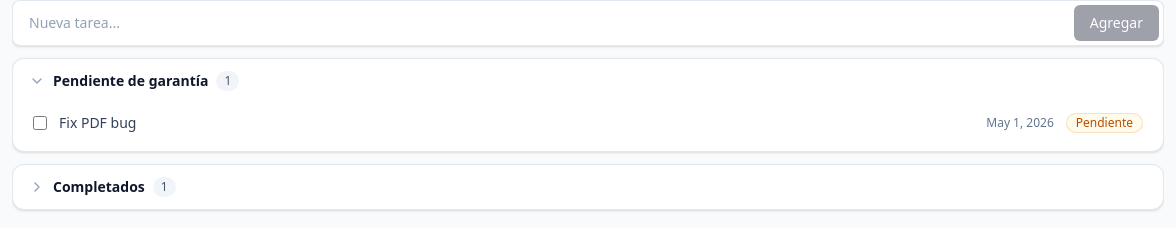
Test: TaskAccordion › enables submit button when input has value
The image size is (1176, 228).
Expected: the button "Agregar" is disabled, [1074, 5, 1159, 41]
Step 1. Type "New task" into the field with placeholder "Nueva tarea..." → {"x": 543, "y": 23}, box [17, 5, 1070, 41]
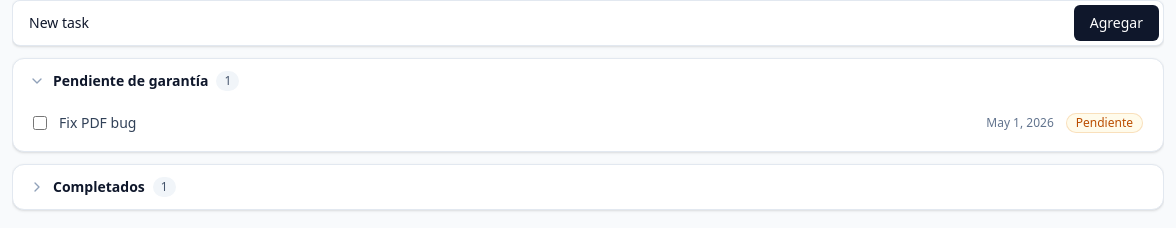
Expected: the button "Agregar" is enabled, [1074, 5, 1159, 41]
